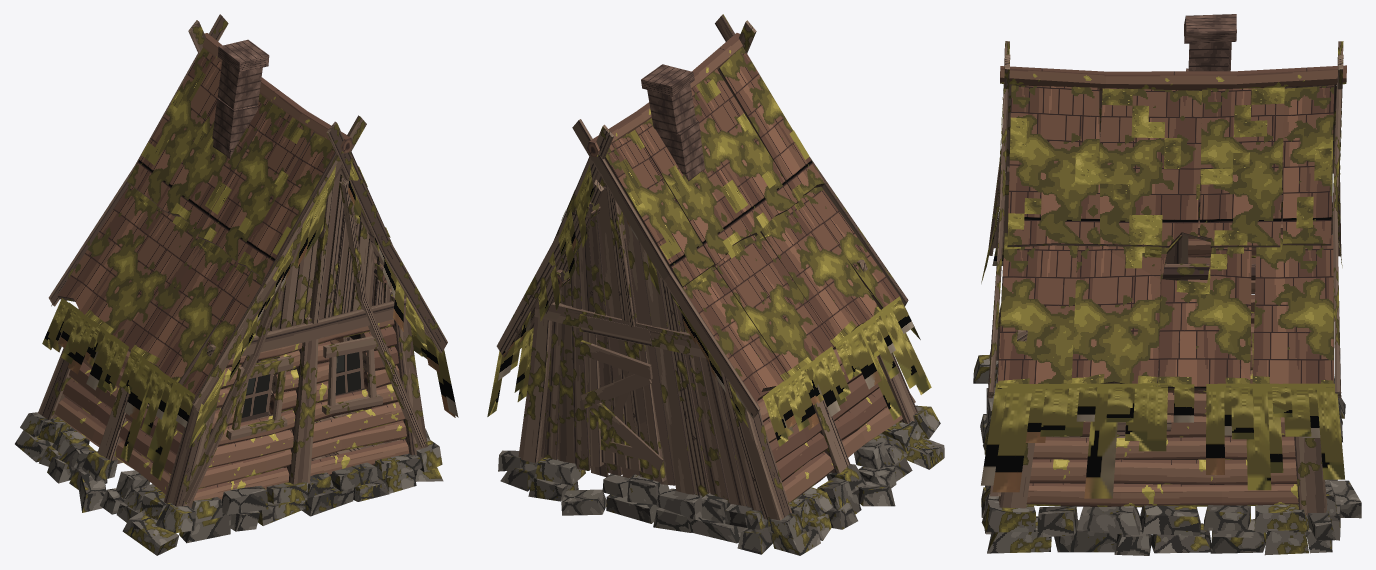
The model's file is SM_SW17_NarrowLeaningHut.fbx.
The picture shows the model from 3 angles, left to right: view 1: azimuth 30°, elevation 25°; view 2: azimuth 150°, elevation 25°; view 3: azimuth 270°, elevation 25°; orthographic projection. The views are drawn at different scales.
Parts seen in each view (by area): view 1: SW17b_Roof, SW17b_Planks, SW17b_LogWall, SW17b_Stone, SW17b_Plants, SW17b_Props, SW17b_Moss; view 2: SW17b_Planks, SW17b_Roof, SW17b_Stone, SW17b_Plants, SW17b_LogWall, SW17b_Props, SW17b_Moss; view 3: SW17b_Roof, SW17b_Plants, SW17b_LogWall, SW17b_Stone, SW17b_Moss, SW17b_Planks, SW17b_Props, SW17b_Bark.
Part boxes in pixels (box(x1,y1,x2,y2)): SW17b_Roof: box(57, 47, 335, 396); SW17b_Planks: box(38, 14, 447, 507); SW17b_LogWall: box(55, 33, 409, 500); SW17b_Stone: box(15, 412, 443, 555); SW17b_Plants: box(42, 162, 458, 480); SW17b_Props: box(49, 20, 395, 422); SW17b_Moss: box(85, 69, 390, 384); SW17b_Planks: box(496, 14, 917, 520); SW17b_Roof: box(605, 46, 900, 401); SW17b_Stone: box(498, 405, 944, 555); SW17b_Plants: box(487, 164, 931, 446); SW17b_LogWall: box(589, 33, 902, 502); SW17b_Props: box(557, 20, 907, 417); SW17b_Moss: box(561, 79, 882, 381); SW17b_Roof: box(997, 85, 1333, 388); SW17b_Plants: box(981, 97, 1344, 498); SW17b_LogWall: box(1000, 65, 1346, 507); SW17b_Stone: box(973, 355, 1361, 555); SW17b_Moss: box(997, 87, 1333, 388); SW17b_Planks: box(987, 41, 1343, 515); SW17b_Props: box(987, 14, 1343, 398); SW17b_Bark: box(1076, 132, 1283, 280).
Size of the model in its own units: 4.52 by 5.46 by 4.04.
